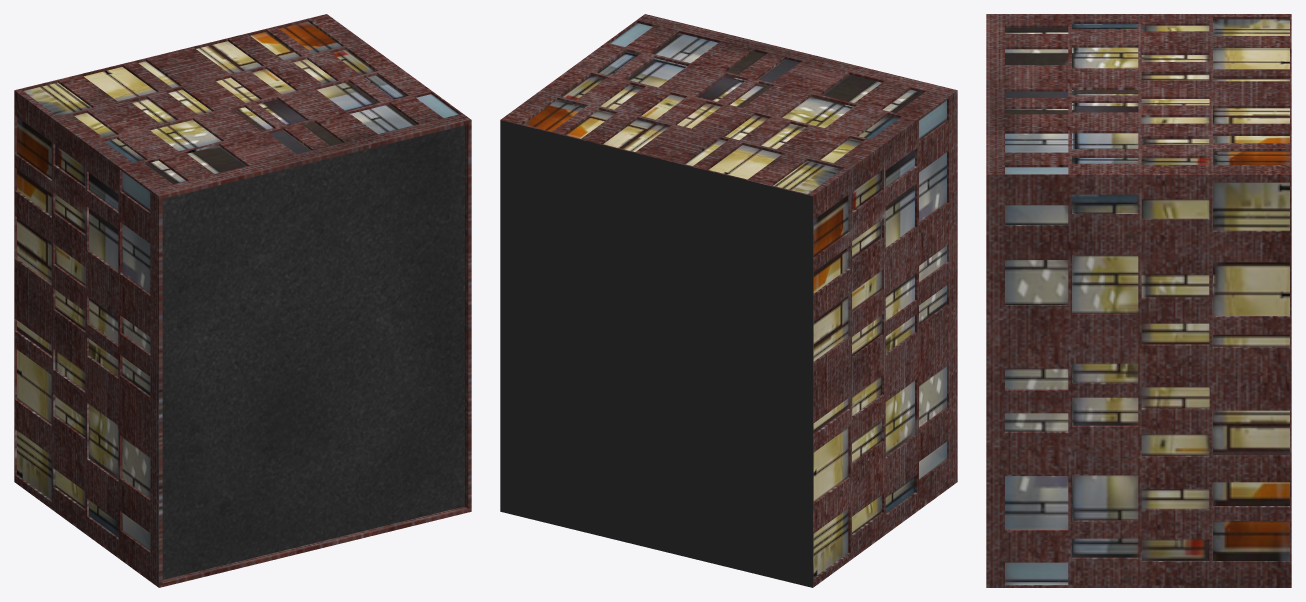
The model's file is 10079_Office Building - Brick_V1_iterations-0.obj.
3 views of the same model, side by side, from view 1: azimuth 30°, elevation 25°; view 2: azimuth 150°, elevation 25°; view 3: azimuth 270°, elevation 25° (orthographic). The views are drawn at different scales.
Visible parts, largest first — view 1: 10079_Office_Building___Brick_V1_Max2008; view 2: 10079_Office_Building___Brick_V1_Max2008; view 3: 10079_Office_Building___Brick_V1_Max2008.
Boxes of the visible parts, x1,y1,x2,y2 form: 10079_Office_Building___Brick_V1_Max2008: (14, 14, 471, 587); 10079_Office_Building___Brick_V1_Max2008: (500, 14, 957, 587); 10079_Office_Building___Brick_V1_Max2008: (986, 14, 1291, 587).
Size of the model in its own units: 1163 by 1392 by 933.
1 material, 1 textured.
